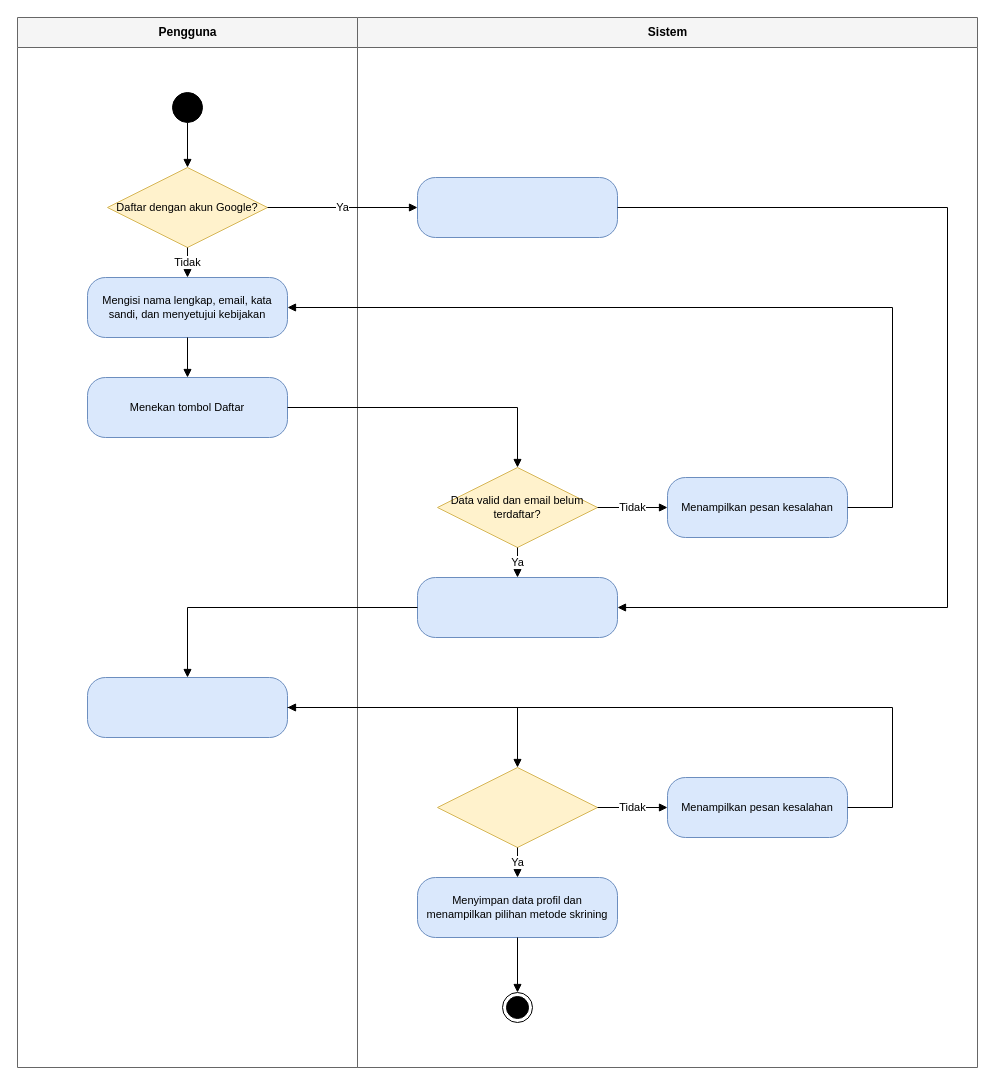
This 995x1085 diagram has some shape labels left out. Each missing label, with the centre of its shape:
Data profil lengkap?: (x=517, y=807)
Memverifikasi akun Google: (x=517, y=207)
Mengisi jenis kelamin, tanggal lahir, nomor telepon, lalu Simpan: (x=187, y=707)
Menyimpan akun dan menampilkan formulir data profil: (x=517, y=607)
